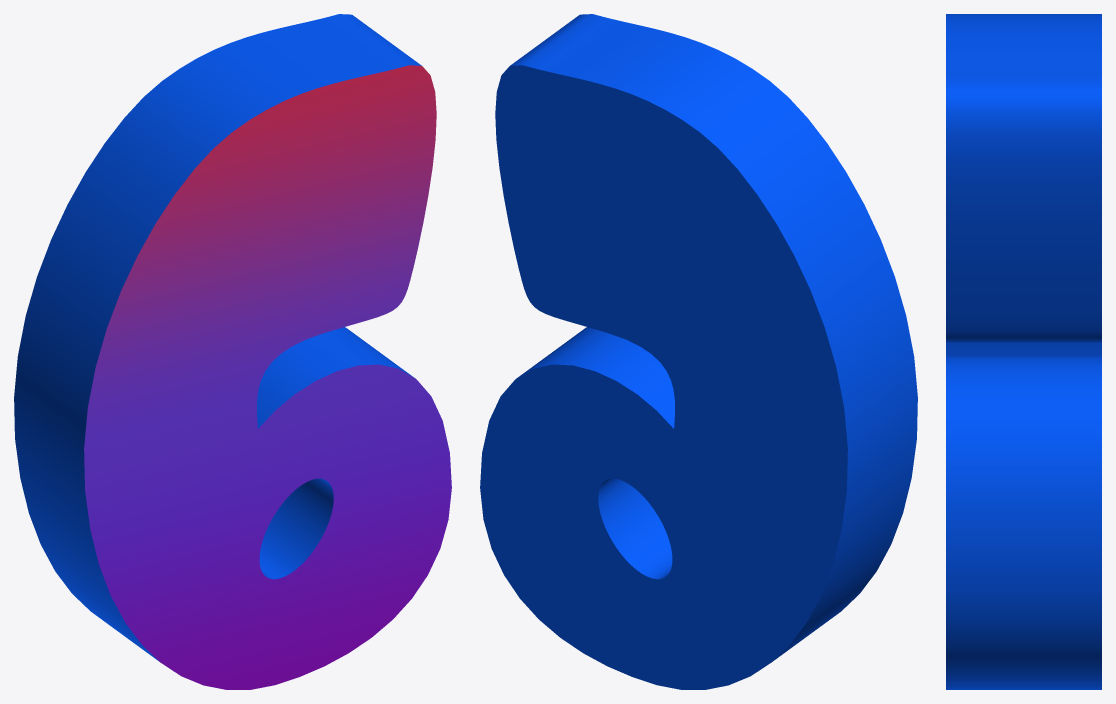
The picture shows the model from 3 angles, left to right: view 1: azimuth 30°, elevation 25°; view 2: azimuth 150°, elevation 25°; view 3: azimuth 270°, elevation 25°; orthographic projection. The views are drawn at different scales.
Parts seen in each view (by area): view 1: 6; view 2: 6; view 3: 6.
Boxes of the visible parts, x1,y1,x2,y2 form: 6: [14, 14, 451, 689]; 6: [480, 14, 917, 689]; 6: [946, 14, 1101, 689].
Size of the model in its own units: 60.66 by 92.57 by 20.
2 materials, 1 textured.
